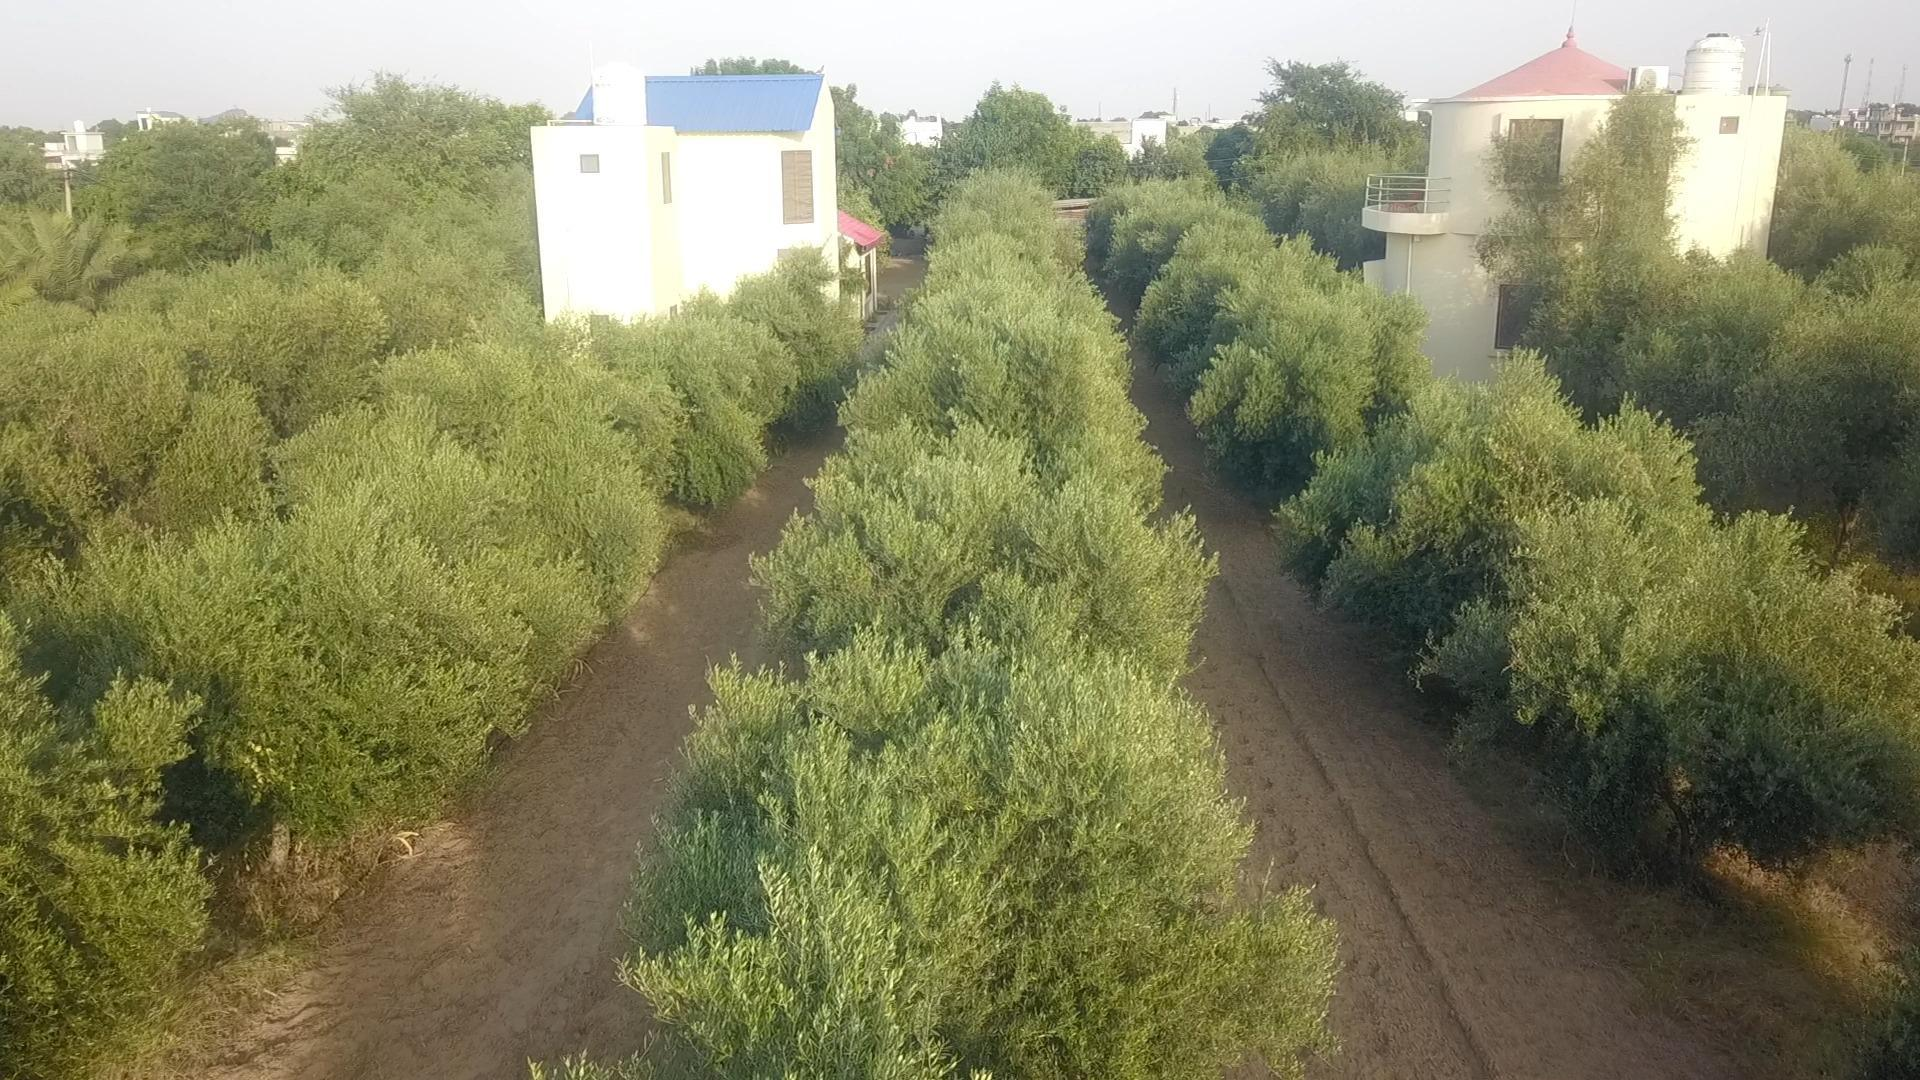canopy: (534, 171, 1337, 1079), (0, 253, 861, 1073), (1098, 183, 1919, 876)
road: (1135, 367, 1813, 1079), (182, 447, 824, 1079)
